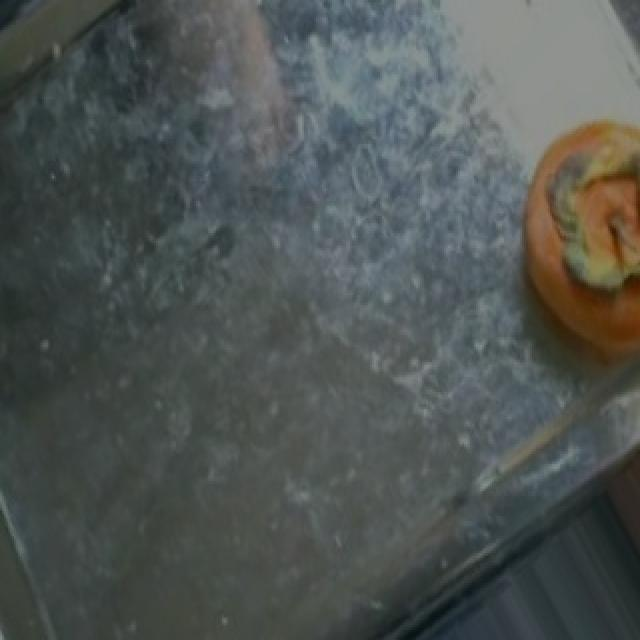Fruit: (494, 92, 640, 317)
